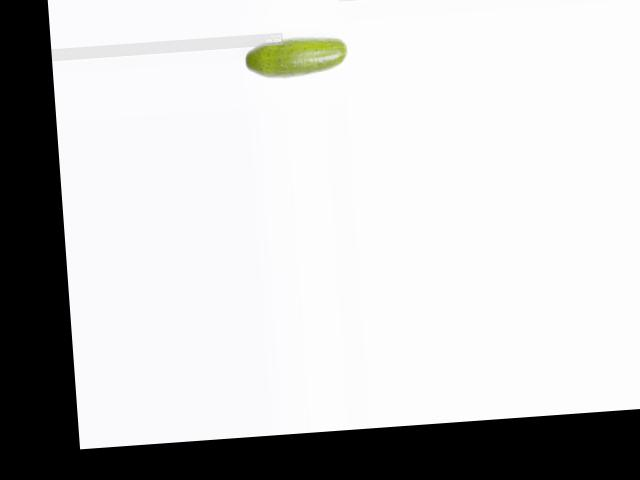cucumber: (242, 33, 349, 81)
